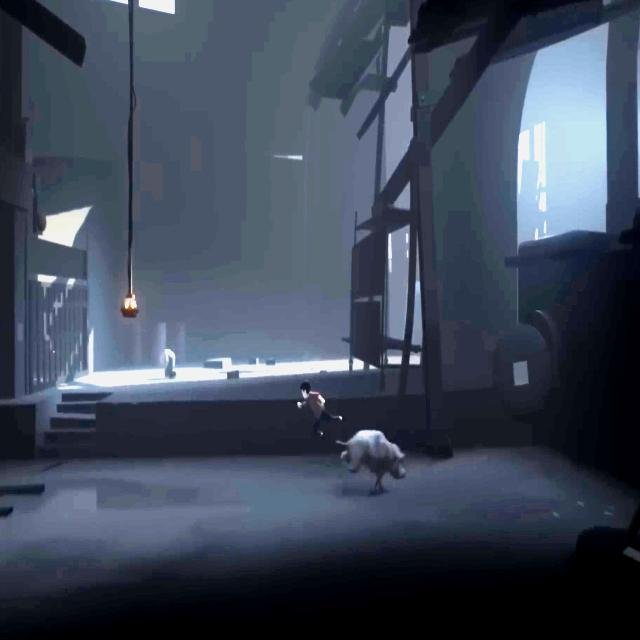boy: (297, 381, 344, 438)
interactible: (120, 298, 139, 318)
zombie: (161, 348, 176, 378)
